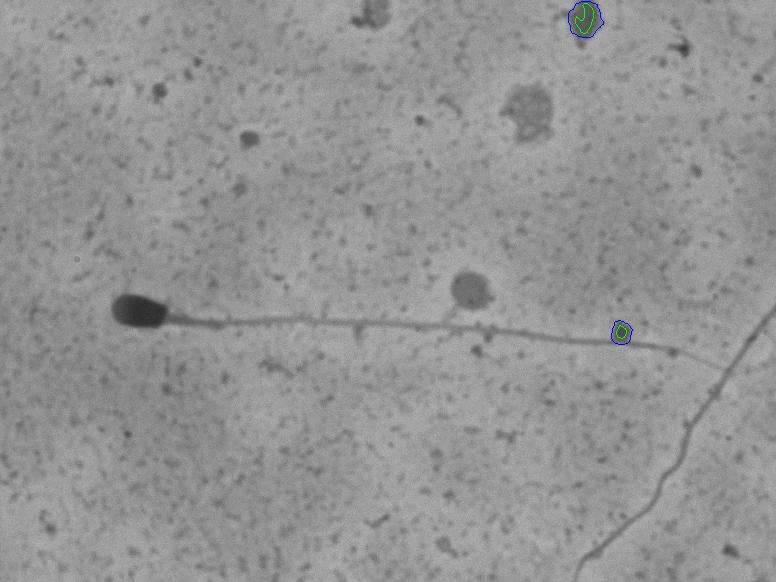Abnormal: (93, 261, 705, 390)
